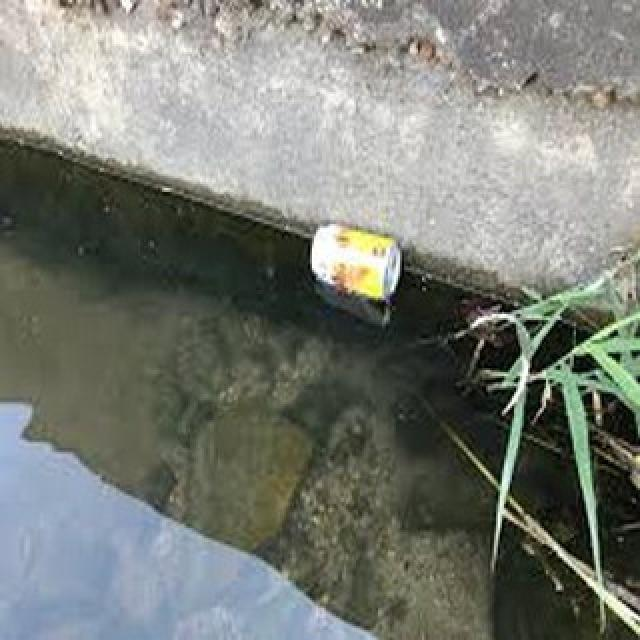can: (310, 222, 402, 303)
